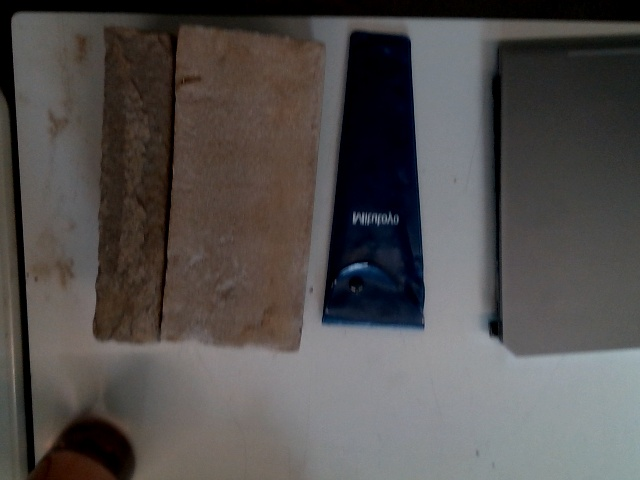brick: (158, 31, 325, 349)
